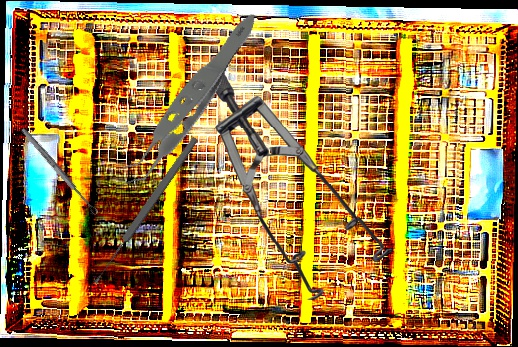Speculum: (205, 66, 395, 303)
Surgical Spoon: (90, 135, 200, 286), (19, 126, 100, 217)
Tissue Forceps: (70, 11, 297, 194)
